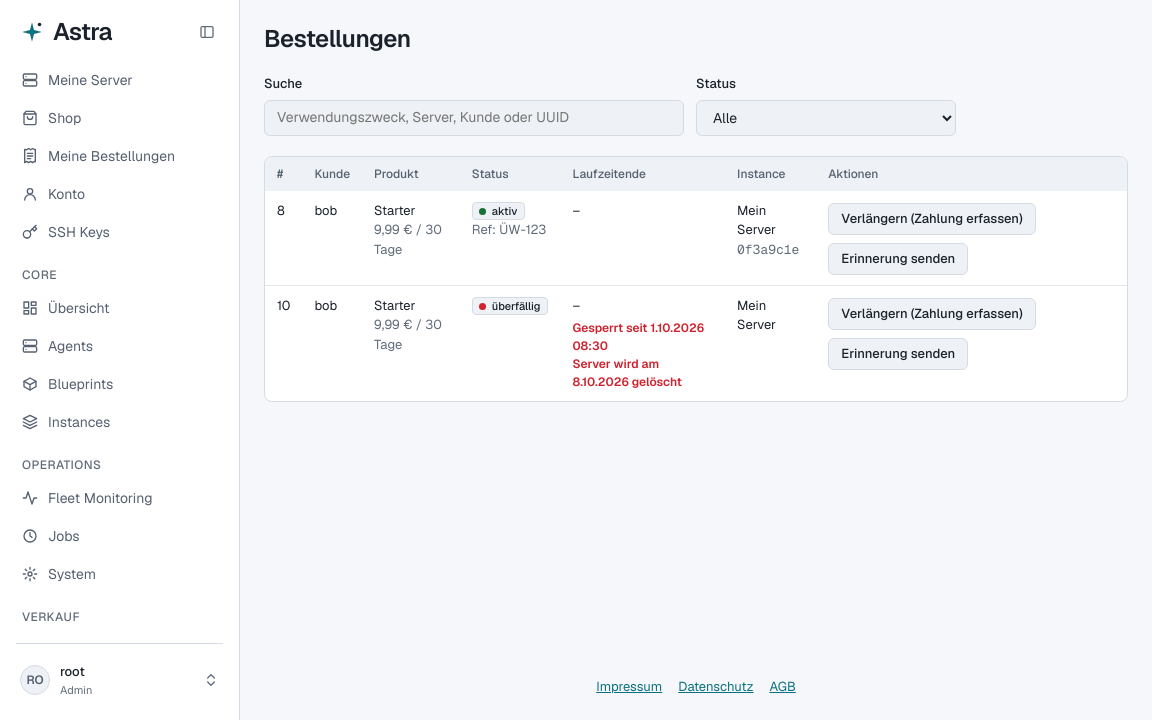
Test: AdminOrdersPage › verlangt bei aktiven und ueberfaelligen Bestellungen eine Zahlungsreferenz (Verlaengerung)
Expected: the text "Server wird am 8.10.2026 gelöscht" is shown, top-left (572, 356), bottom-right (682, 390)
Click the button "Verlängern (Zahlung erfassen)" in the row of "aktiv": click(932, 218) top-left (828, 202), bottom-right (1036, 234)
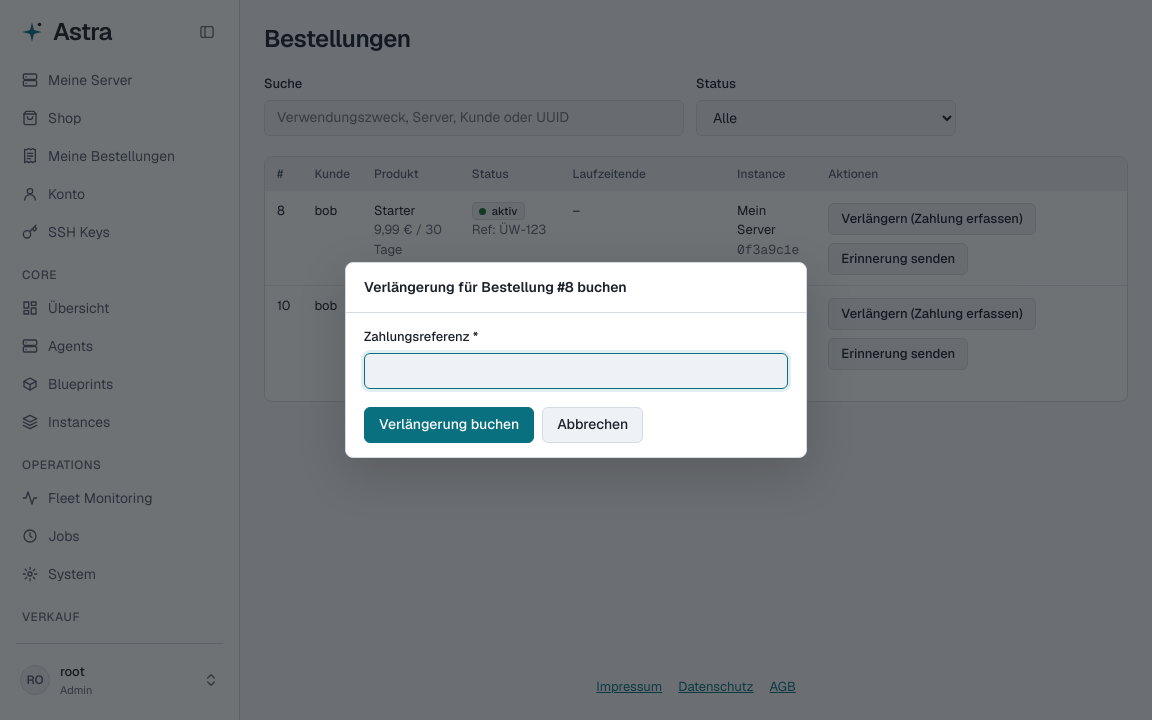
// Leere Referenz: kein Request, klare Meldung
Submit the form labelled "Zahlungsreferenz *", box top-left (346, 313), bottom-right (806, 457)
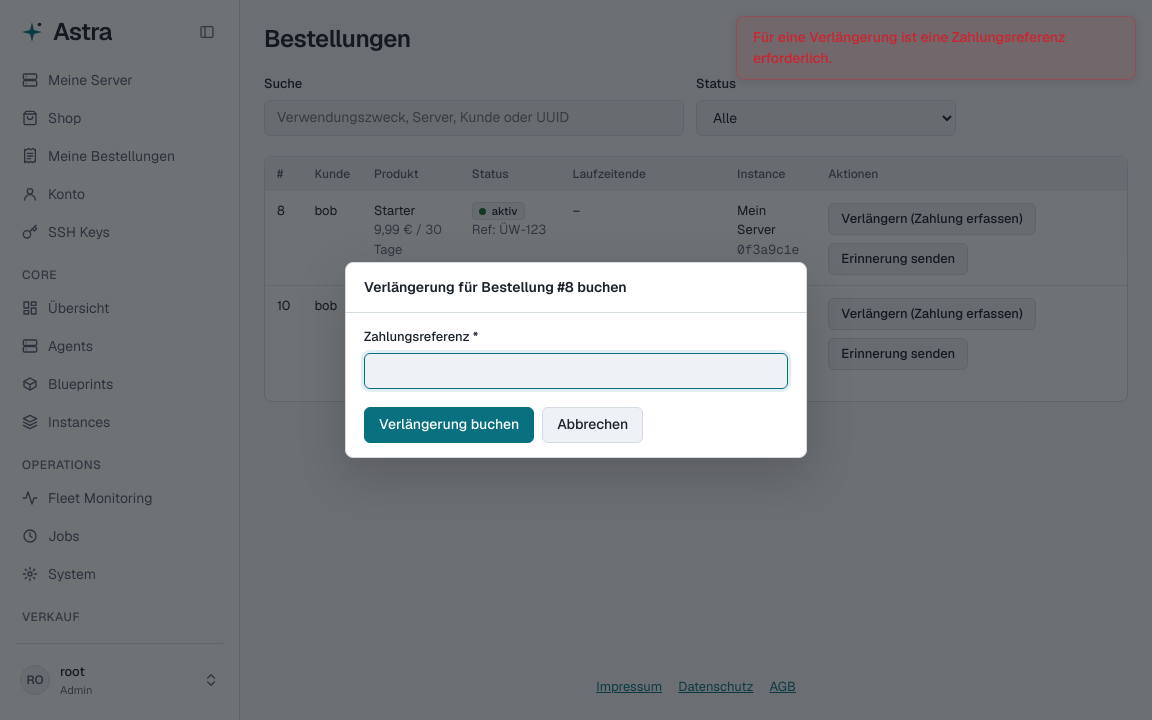
Result: the text "Für eine Verlängerung ist eine Zahlungsreferenz erforderlich." is shown at top-left (736, 16), bottom-right (1136, 80)
In the field labelled "Zahlungsreferenz *": (576, 371) top-left (364, 353), bottom-right (788, 389), type " ÜW-2026-11 "
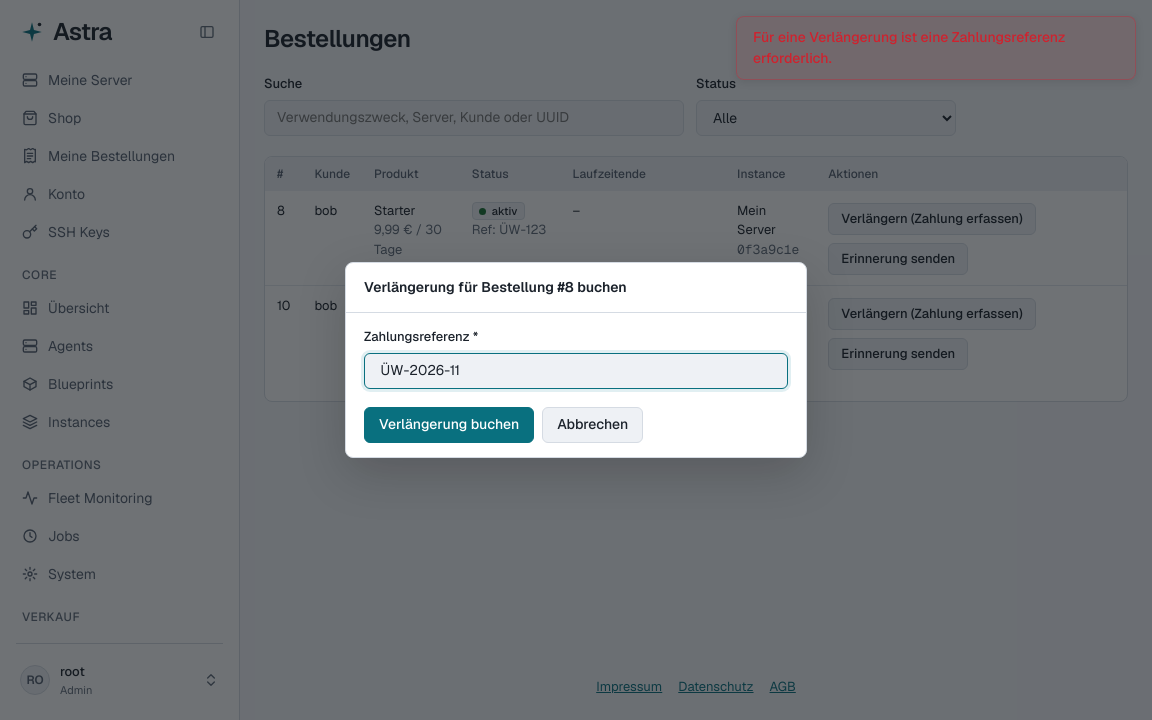
Click the button "Verlängerung buchen": click(449, 425) top-left (364, 407), bottom-right (534, 443)
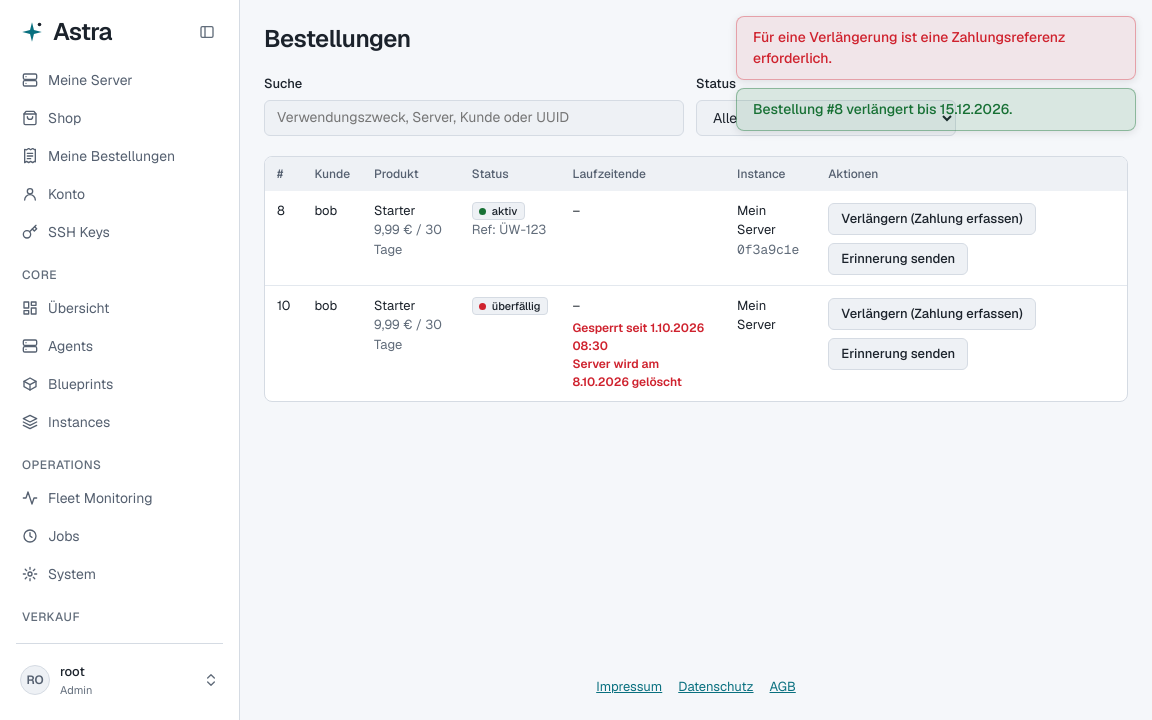
Result: the text "Bestellung #8 verlängert bis 15.12.2026." is shown at top-left (736, 88), bottom-right (1136, 131)
